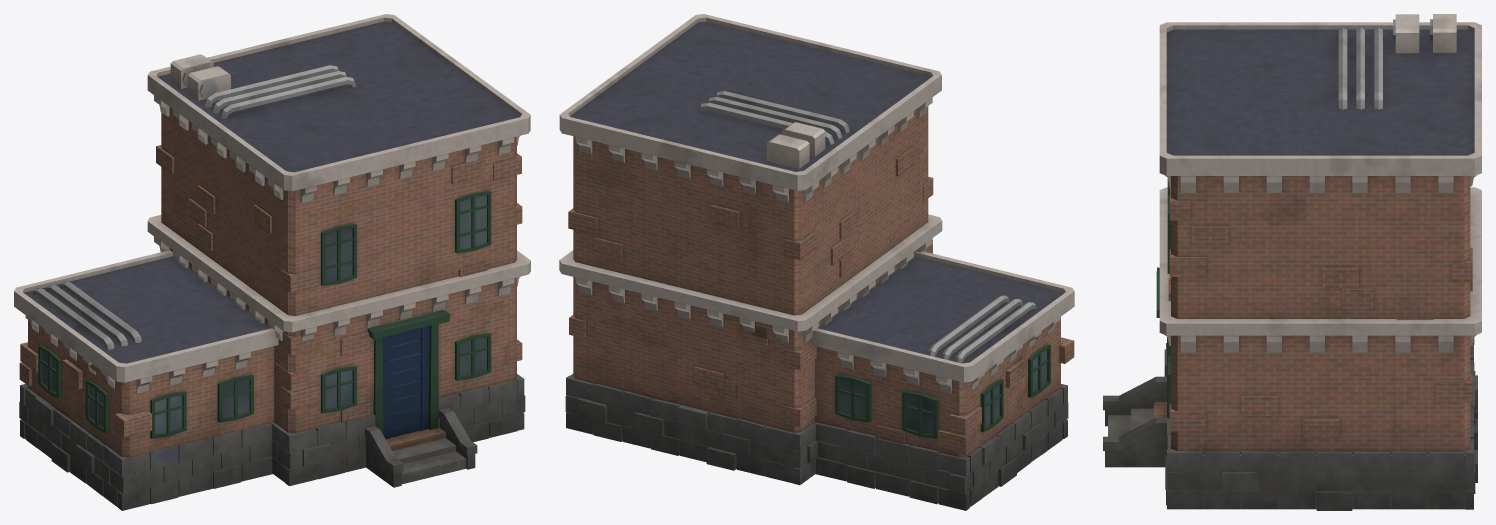
The model's file is 2Story_Sidehouse.glb.
The picture shows the model from 3 angles, left to right: view 1: azimuth 30°, elevation 25°; view 2: azimuth 150°, elevation 25°; view 3: azimuth 270°, elevation 25°; orthographic projection. The views are drawn at different scales.
Visible parts, largest first — view 1: 2Story_Sidehouse_medium; view 2: 2Story_Sidehouse_medium; view 3: 2Story_Sidehouse_medium.
Part boxes in pixels (left/top/right/bottom): 2Story_Sidehouse_medium: left=14, top=14, right=530, bottom=510; 2Story_Sidehouse_medium: left=559, top=14, right=1074, bottom=510; 2Story_Sidehouse_medium: left=1103, top=14, right=1481, bottom=510.
Size of the model in its own units: 3.47 by 2.76 by 2.53.
Materials: 2 (2 with a texture image).
